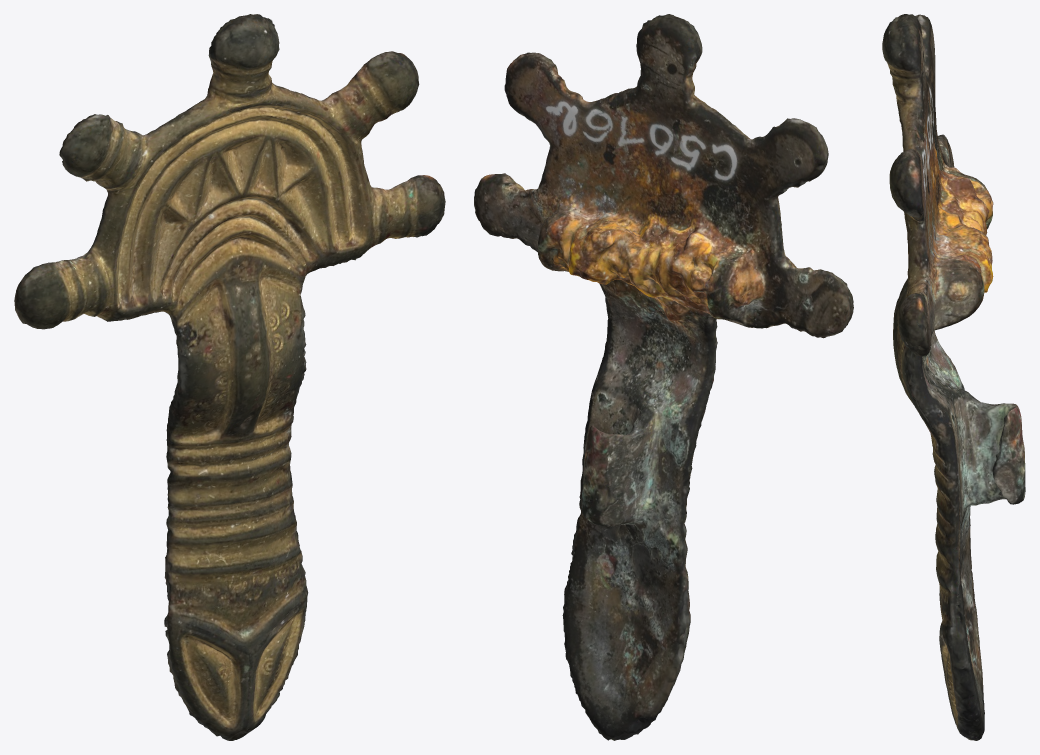
3 renders of one model, left to right at view 1: azimuth 30°, elevation 25°; view 2: azimuth 150°, elevation 25°; view 3: azimuth 270°, elevation 25°, orthographic. The views are drawn at different scales.
Bounding box in the file's own units: 0.0376 × 0.0654 × 0.012.
Materials: 1 (1 with a texture image).
